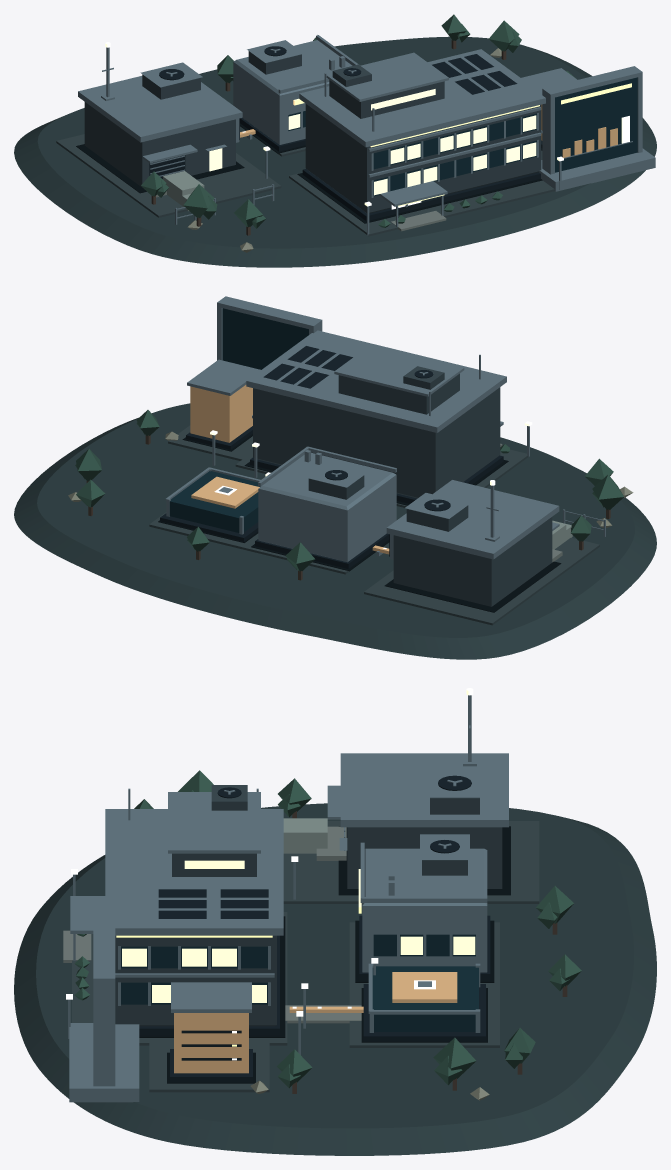
File: district-esusdata.glb
3 views of the same model, one above another, from view 1: azimuth 30°, elevation 25°; view 2: azimuth 150°, elevation 25°; view 3: azimuth 270°, elevation 25° (orthographic). The views are drawn at different scales.
Parts seen in each view (by area): view 1: regional-rise, decoration-metal, java-core, decoration-paving, pec-source-roof, rust-acquisition, pec-source, authorized-panel, decoration-dark, decoration-equipment, decoration-foliage, decoration-esusWindow (+7 smaller); view 2: regional-rise, decoration-metal, java-core, rust-acquisition, pec-source, decoration-paving, pec-source-roof, decoration-dark, decoration-equipment, decoration-foliage, authorized-panel, indicator-result (+3 smaller); view 3: regional-rise, decoration-metal, decoration-paving, rust-acquisition, pec-source-roof, decoration-dark, decoration-foliage, java-core, verified-extract, indicator-result, decoration-glass, decoration-equipment (+6 smaller).
Part boxes in pixels (x1=…): regional-rise: x1=14, y1=36, x2=656, y2=267; decoration-metal: x1=101, y1=35, x2=655, y2=235; java-core: x1=305, y1=104, x2=541, y2=213; decoration-paving: x1=56, y1=126, x2=554, y2=236; pec-source-roof: x1=78, y1=76, x2=242, y2=142; rust-acquisition: x1=233, y1=40, x2=352, y2=144; pec-source: x1=84, y1=102, x2=235, y2=187; authorized-panel: x1=555, y1=77, x2=637, y2=172; decoration-dark: x1=149, y1=46, x2=542, y2=221; decoration-equipment: x1=142, y1=51, x2=444, y2=118; decoration-foliage: x1=141, y1=14, x2=575, y2=228; decoration-esusWindow: x1=209, y1=89, x2=536, y2=195; regional-rise: x1=14, y1=403, x2=656, y2=659; decoration-metal: x1=165, y1=296, x2=605, y2=559; java-core: x1=253, y1=387, x2=500, y2=498; rust-acquisition: x1=258, y1=452, x2=396, y2=562; pec-source: x1=393, y1=517, x2=552, y2=606; decoration-paving: x1=149, y1=425, x2=599, y2=625; pec-source-roof: x1=386, y1=480, x2=559, y2=559; decoration-dark: x1=160, y1=346, x2=503, y2=568; decoration-equipment: x1=308, y1=366, x2=468, y2=531; decoration-foliage: x1=75, y1=410, x2=623, y2=571; authorized-panel: x1=222, y1=308, x2=308, y2=369; indicator-result: x1=190, y1=385, x2=252, y2=442; regional-rise: x1=14, y1=803, x2=656, y2=1155; decoration-metal: x1=68, y1=695, x2=487, y2=1102; decoration-paving: x1=72, y1=821, x2=539, y2=1092; rust-acquisition: x1=362, y1=848, x2=487, y2=972; pec-source-roof: x1=340, y1=753, x2=508, y2=827; decoration-dark: x1=139, y1=775, x2=490, y2=1081; decoration-foliage: x1=74, y1=770, x2=581, y2=1088; java-core: x1=115, y1=935, x2=276, y2=1026; verified-extract: x1=372, y1=966, x2=478, y2=1031; indicator-result: x1=174, y1=1013, x2=248, y2=1073; decoration-glass: x1=121, y1=934, x2=475, y2=1004; decoration-equipment: x1=172, y1=785, x2=479, y2=876.
Size of the model in its own units: 8.29 by 1.83 by 6.42.
